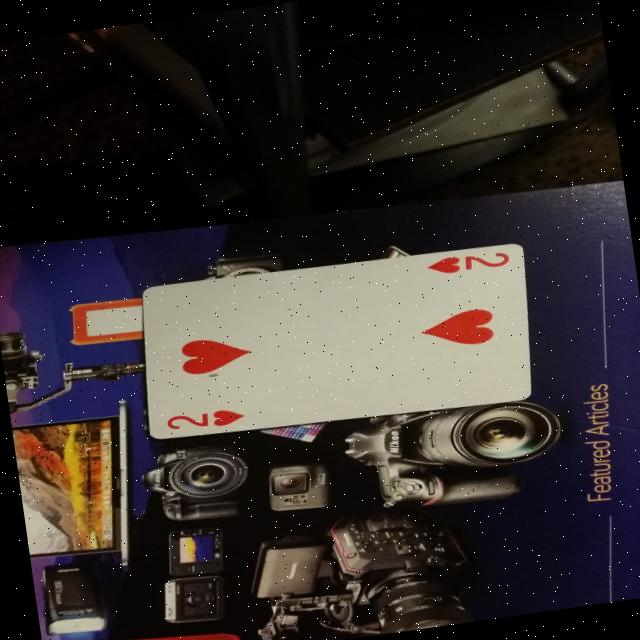2h: (149, 396, 258, 441), (412, 241, 521, 285)
